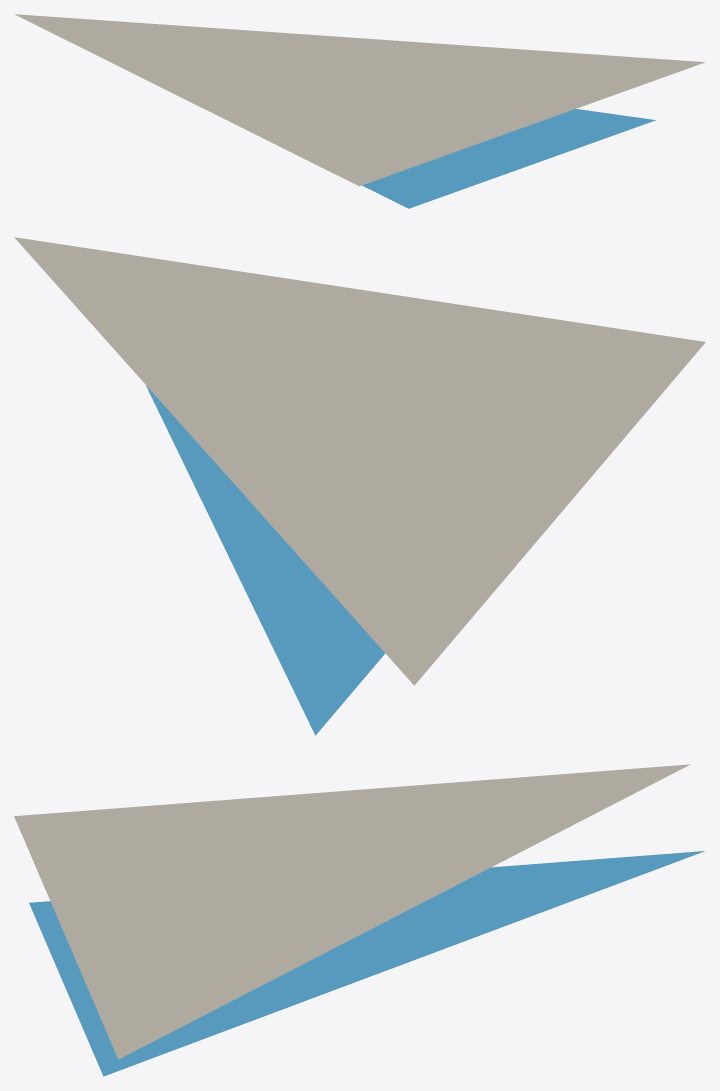
3 renders of one model, top to bottom at view 1: azimuth 30°, elevation 25°; view 2: azimuth 150°, elevation 25°; view 3: azimuth 270°, elevation 25°, orthographic. The views are drawn at different scales.
Visible parts, largest first — view 1: estructura_terreno, estructura_agua; view 2: estructura_terreno, estructura_agua; view 3: estructura_terreno, estructura_agua.
Boxes of the visible parts, bbox=[...] form: estructura_terreno: bbox=[14, 14, 704, 186]; estructura_agua: bbox=[362, 109, 655, 208]; estructura_terreno: bbox=[14, 237, 705, 685]; estructura_agua: bbox=[146, 385, 385, 735]; estructura_terreno: bbox=[14, 764, 690, 1059]; estructura_agua: bbox=[29, 851, 704, 1076].
Bounding box in the file's own units: 5.01 × 0.41 × 4.96.
